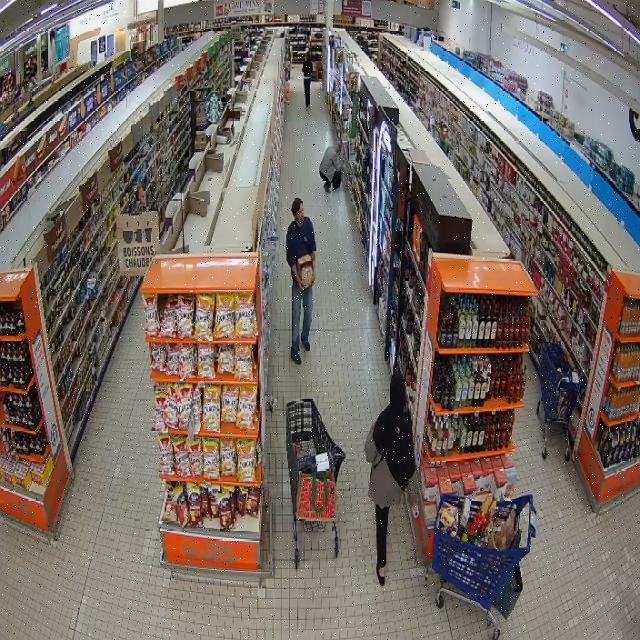article: (297, 254, 313, 288)
bags: (297, 472, 335, 520), (495, 565, 522, 618), (333, 169, 341, 188)
hands: (294, 272, 304, 289), (310, 264, 316, 286), (412, 504, 419, 518)
person: (365, 373, 418, 585), (287, 198, 316, 364), (319, 141, 342, 192), (302, 53, 313, 110)
